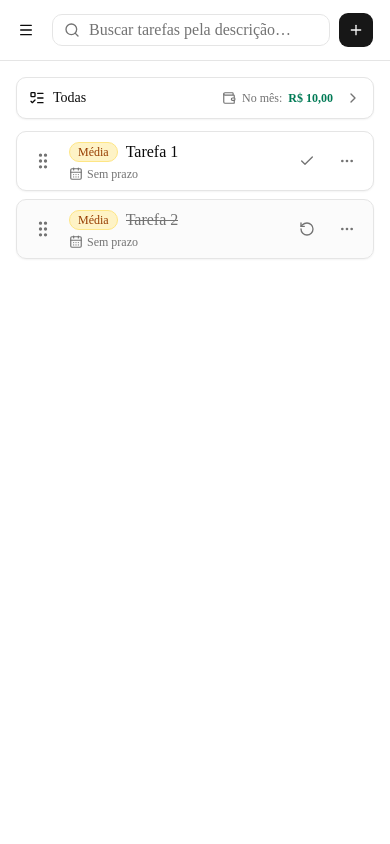
Scenario: Dashboard › deve abrir o menu também pelo resumo compacto do celular
The image size is (390, 844).
Expected: the button "Tarefa 1" is shown, [126,140,178,164]
Click the button "Todas No mês: R$ 10,00".
click(70, 98)  # box [16,77,374,119]
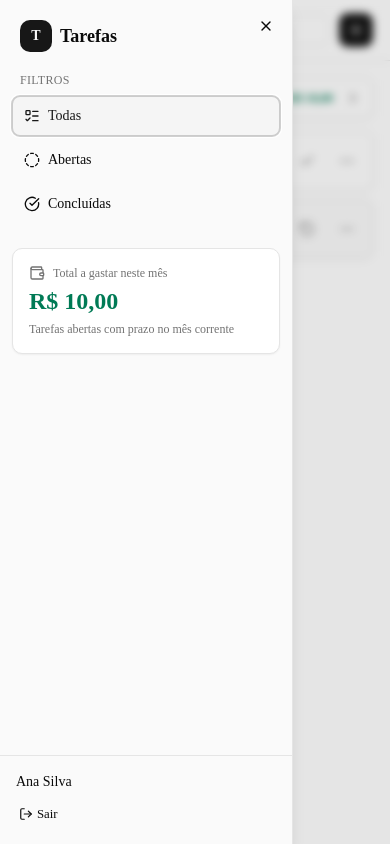
Expected: the dialog named "Menu" is shown
